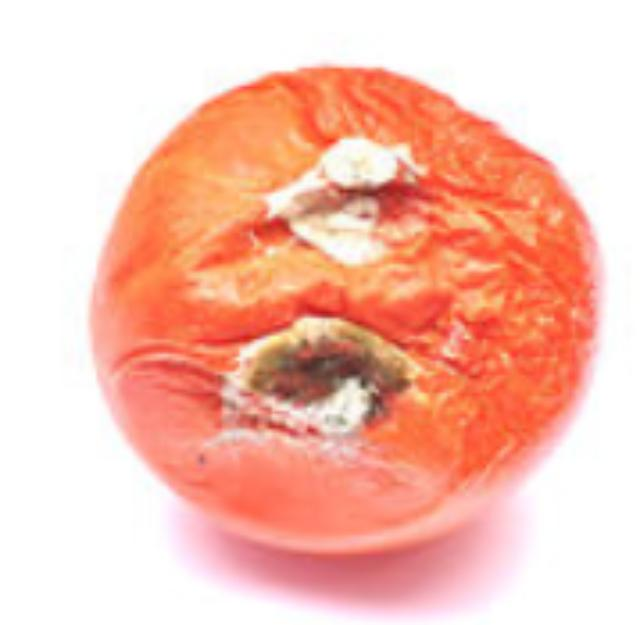defect: (81, 58, 602, 557)
